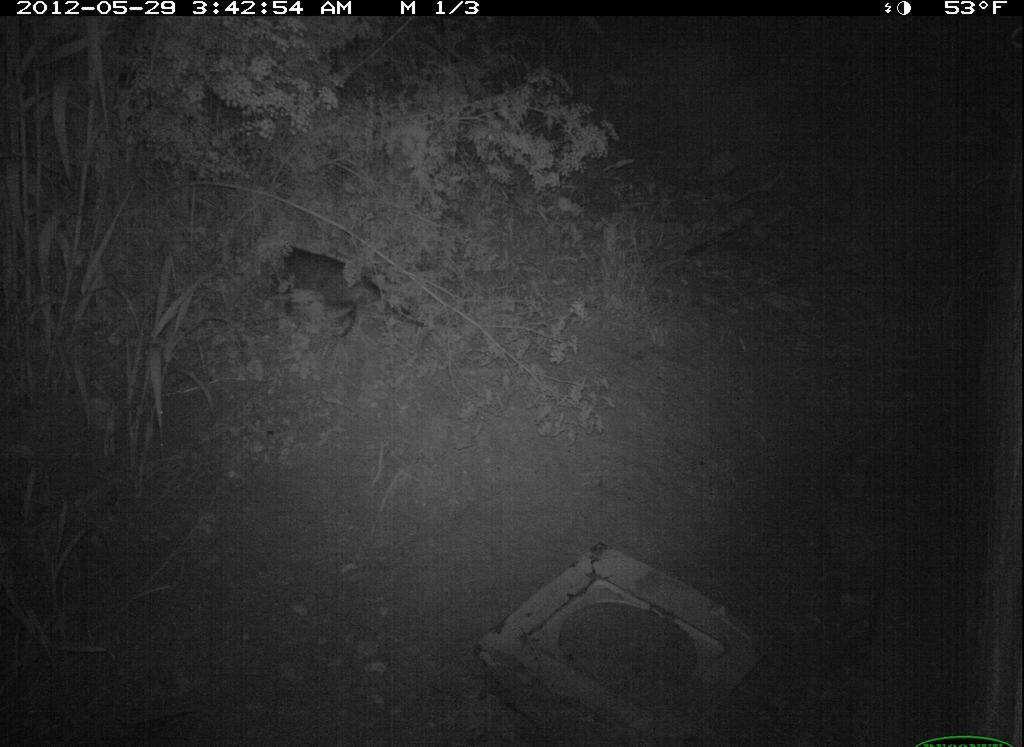cat: (239, 209, 441, 358)
